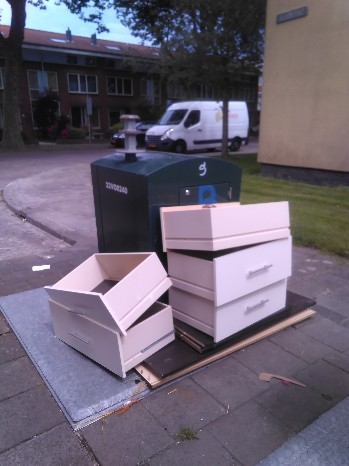Container: (94, 148, 158, 252)
Rest: (169, 203, 292, 349), (81, 272, 161, 363)
